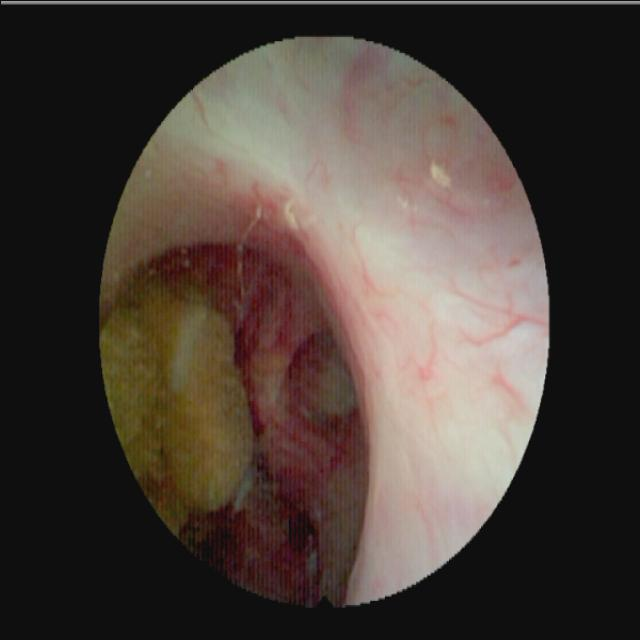stone: (102, 282, 250, 528)
tissue: (103, 50, 543, 591)
